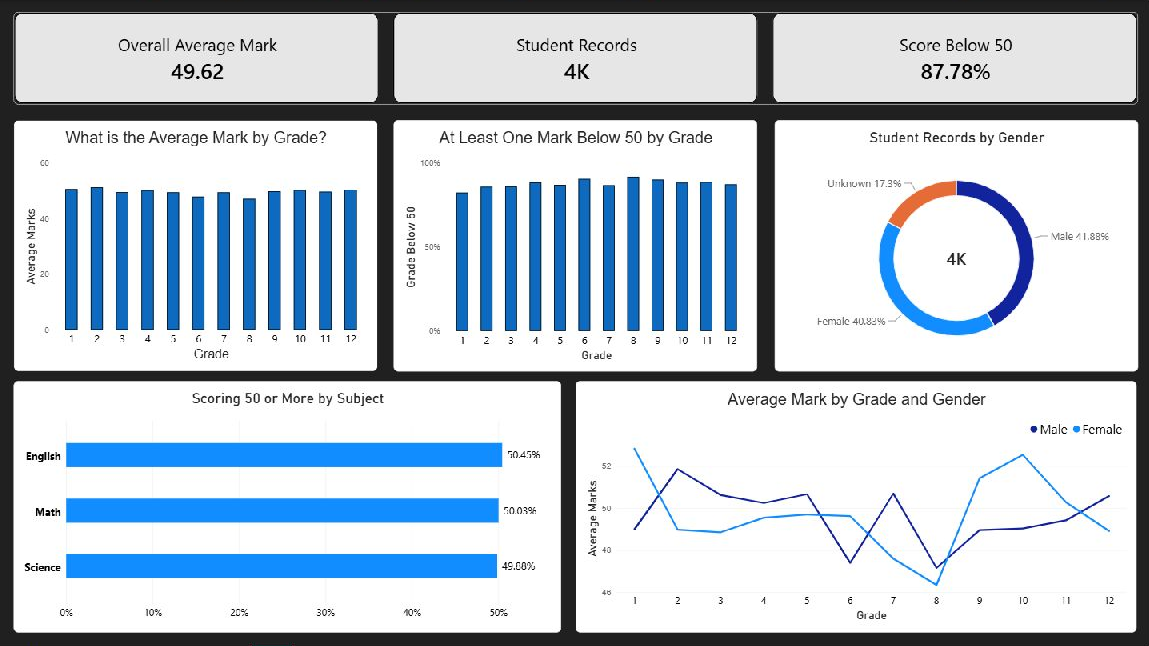

The page's visual inventory and layout, read from the dashboard file:
{"tool":"powerbi","page":{"name":"Student Performance","canvas":[1920,1080],"ordinal":0},"visuals":[{"type":"clusteredColumnChart","title":"What is the Average Mark by Grade?","fields":{"Category":["student_data_cleaned.Grade"],"Y":["Avg(student_data_cleaned.Average_Mark)"]},"box":[23.9,200.6,608,420],"z":0},{"type":"clusteredColumnChart","title":"At Least One Mark Below 50 by Grade","fields":{"Category":["student_data_cleaned.Grade"],"Y":["student_data_cleaned.Share Below 50"]},"box":[657.1,200.6,607.4,419.6],"z":1000},{"type":"cardVisual","title":"gvffcxcs","fields":{"Data":["student_data_cleaned.Overall Average Mark","student_data_cleaned.Student Records","student_data_cleaned.Share Below 50"]},"box":[23.9,20.2,1877.3,154.6],"z":2000},{"type":"clusteredBarChart","title":"Scoring 50 or More by Subject","fields":{"Category":["Subject Marks.Subject"],"Y":["Subject Marks.Share Scoring 50 or More"]},"box":[23.9,636.8,914.7,419.6],"z":3000},{"type":"lineChart","title":"Average Mark by Grade and Gender","fields":{"Category":["student_data_cleaned.Grade"],"Series":["student_data_cleaned.Gender"],"Y":["student_data_cleaned.Overall Average Mark"]},"box":[962.6,636.8,936.8,419.6],"z":4000},{"type":"donutChart","title":"Student Records by Gender","fields":{"Category":["student_data_cleaned.Gender"],"Y":["student_data_cleaned.Student Records"]},"box":[1293.9,200.6,607.4,419.6],"z":4001}]}

Visuals, with their boxes in screenshot pixels (x1, y1, x2, y2), scaled from the page's 1920x1080 canvas onto the 1149x646 screenshot:
"What is the Average Mark by Grade?" clusteredColumnChart: 14:120:378:371
"At Least One Mark Below 50 by Grade" clusteredColumnChart: 393:120:757:371
"gvffcxcs" cardVisual: 14:12:1138:105
"Scoring 50 or More by Subject" clusteredBarChart: 14:381:562:632
"Average Mark by Grade and Gender" lineChart: 576:381:1137:632
"Student Records by Gender" donutChart: 774:120:1138:371
